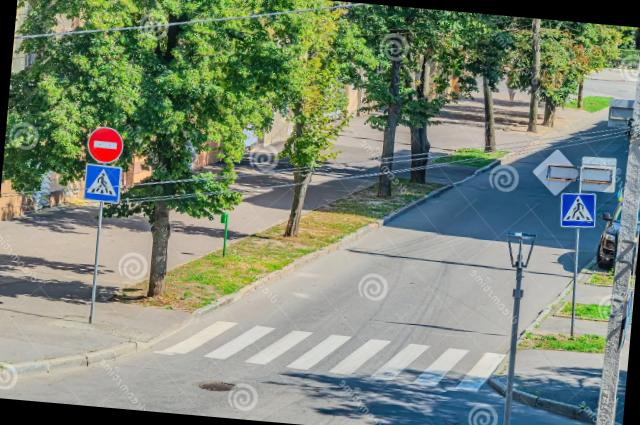crosswalk-sign: (85, 164, 125, 205), (560, 191, 600, 230)
